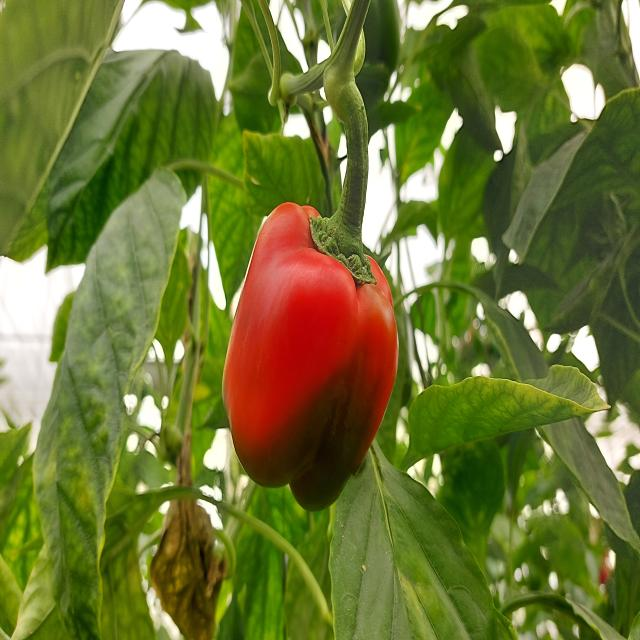Red-Ready-to-Harvest: (218, 184, 416, 534)
